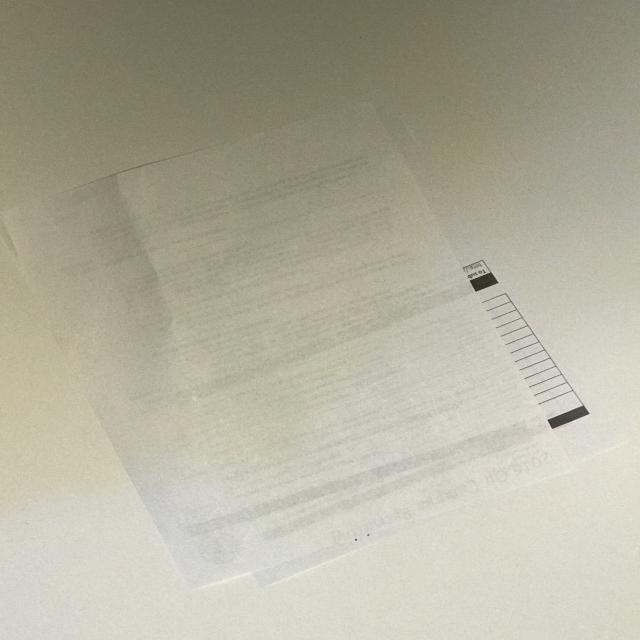paper: (2, 101, 628, 608)
